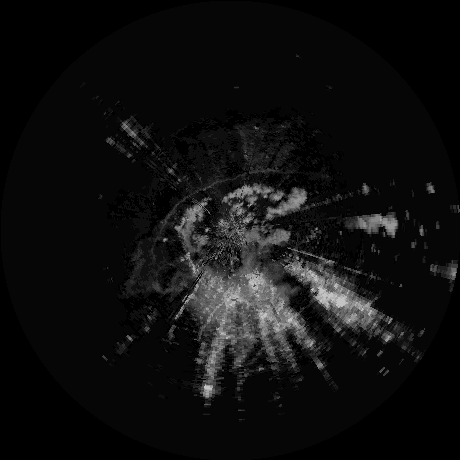frontgust: (158, 169, 285, 232)
